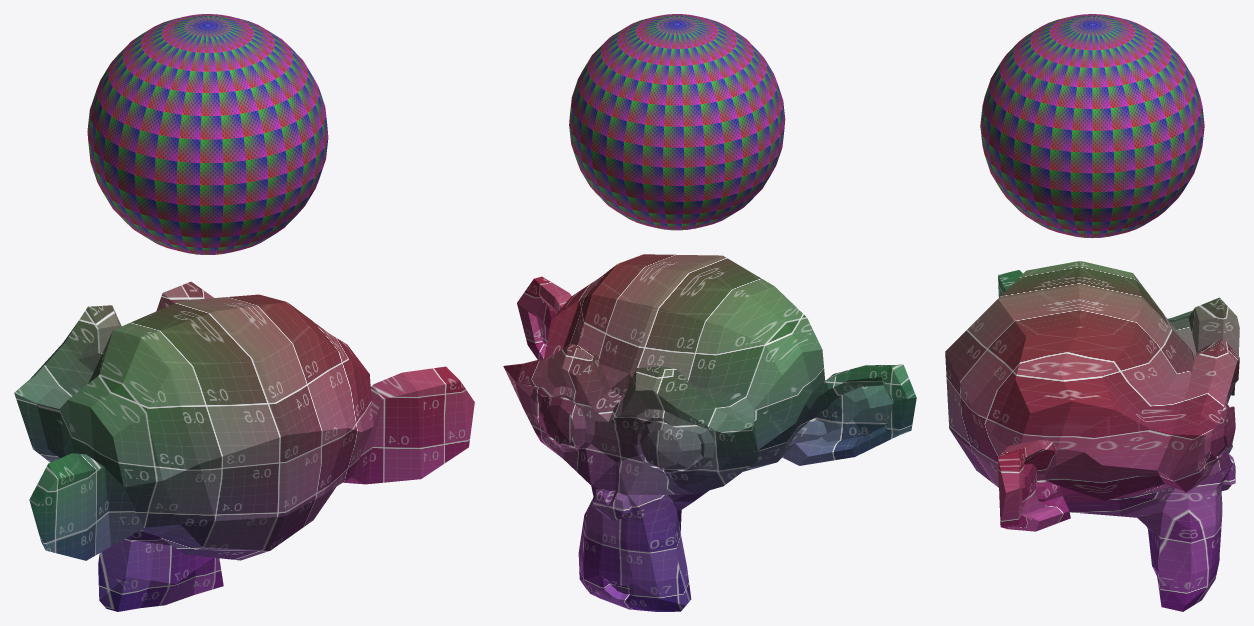
File: first.scene.glb
3 renders of one model, left to right at view 1: azimuth 30°, elevation 25°; view 2: azimuth 150°, elevation 25°; view 3: azimuth 270°, elevation 25°, orthographic. The views are drawn at different scales.
Visible parts, largest first — view 1: Suzanne, Sphere; view 2: Suzanne, Sphere; view 3: Suzanne, Sphere.
Boxes of the visible parts, box(x1,y1,x2,y2) form: Suzanne: box(14, 281, 474, 611); Sphere: box(87, 14, 328, 254); Suzanne: box(503, 254, 916, 611); Sphere: box(569, 14, 785, 230); Suzanne: box(945, 261, 1239, 611); Sphere: box(980, 14, 1204, 238).
Bounding box in the file's own units: 2.73 × 3.63 × 1.7.
1 material, 1 textured.
